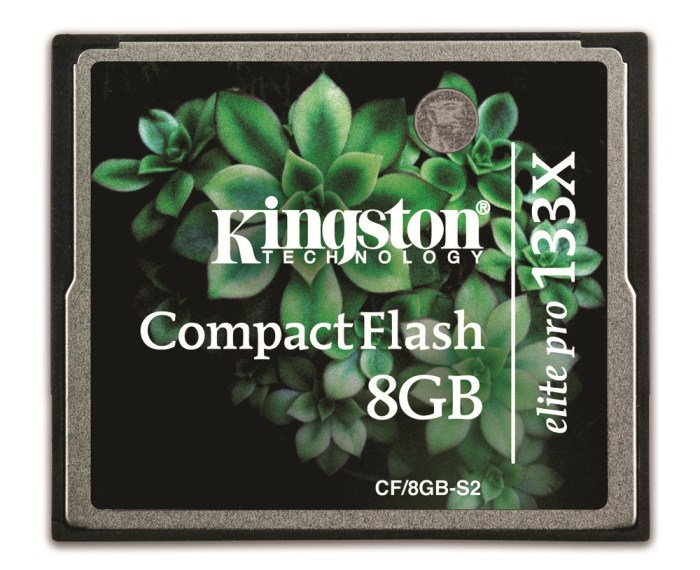Kingston: (199, 189, 501, 271), (404, 75, 489, 160)
